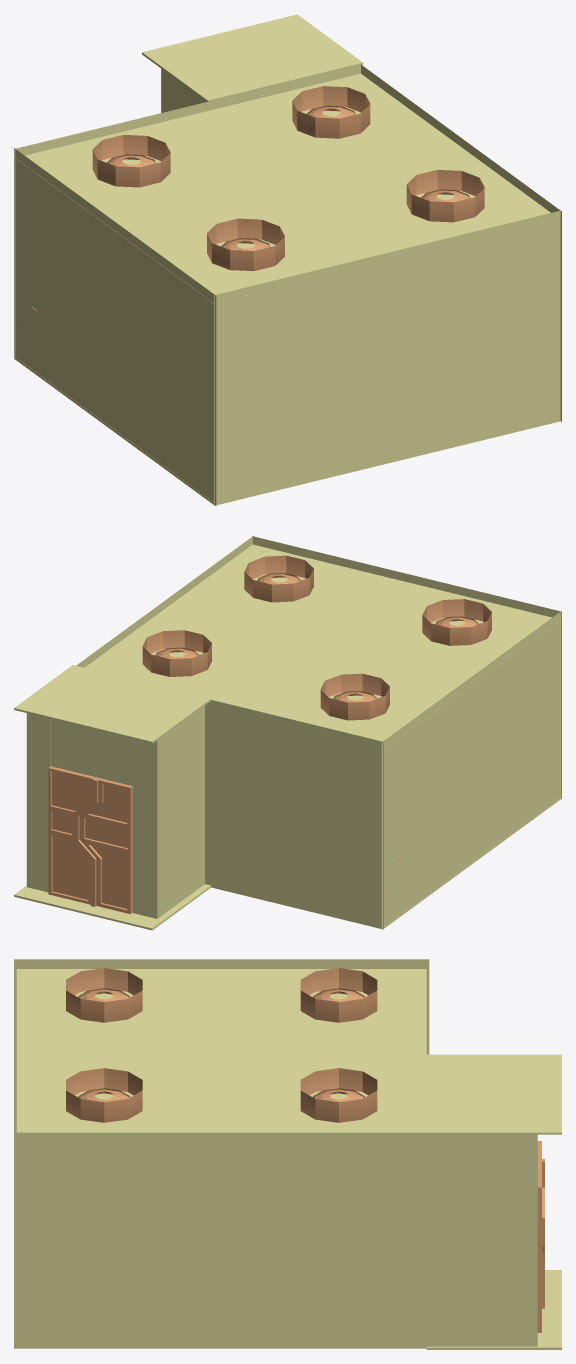
File: 2025.04.09_SLINC01_Base_luz.fbx
The picture shows the model from 3 angles, top to bottom: view 1: azimuth 30°, elevation 25°; view 2: azimuth 150°, elevation 25°; view 3: azimuth 270°, elevation 25°; orthographic projection. The views are drawn at different scales.
Visible parts, largest first — view 1: pPlane2, pCube88, pPlane3, pCube116, PARET, marco01, luz2, luz4, luz3, pPlane6, pPlane12, pCube54; view 2: pCube88, pPlane3, PARET, PARET1, pPlane12, pCube116, _Exp_Pantallas_Cables:SECURITY_DOOR_SR_RT_GROUP_01, _Exp_Pantallas_Cables:SECURITY_DOOR_SR_LF_GROUP_01, pPlane2, luz4, marco01, luz3 (+4 smaller); view 3: pPlane6, pCube88, pCube116, pPlane3, marco01, luz2, luz3, luz4, pCube41, _Exp_Pantallas_Cables:SECURITY_DOOR_SR_RT_GROUP_01, pCube54.
Boxes of the visible parts, x1,y1,x2,y2 form: pPlane2: (214,210,560,505); pCube88: (15,73,550,305); pPlane3: (14,148,216,505); pCube116: (142,14,363,101); PARET: (14,64,361,359); marco01: (92,135,170,187); luz2: (292,86,370,138); luz4: (406,170,484,222); luz3: (207,218,284,270); pPlane6: (361,64,561,421); pPlane12: (161,69,206,112); pCube54: (15,357,214,504); pCube88: (84,544,560,751); pPlane3: (381,611,561,929); PARET: (205,700,383,929); PARET1: (27,713,157,918); pPlane12: (157,705,204,918); pCube116: (14,665,211,743); _Exp_Pantallas_Cables:SECURITY_DOOR_SR_RT_GROUP_01: (48,766,99,906); _Exp_Pantallas_Cables:SECURITY_DOOR_SR_LF_GROUP_01: (79,778,132,914); pPlane2: (252,536,561,799); luz4: (244,555,313,602); marco01: (320,673,389,720); luz3: (422,599,491,645); pPlane6: (14,1132,537,1348); pCube88: (16,969,426,1144); pCube116: (426,1054,561,1134); pPlane3: (14,959,429,1132); marco01: (300,968,377,1022); luz2: (300,1068,377,1122); luz3: (66,968,142,1022); luz4: (66,1068,142,1122); pCube41: (426,1270,561,1349); _Exp_Pantallas_Cables:SECURITY_DOOR_SR_RT_GROUP_01: (537,1159,544,1332); pCube54: (16,1346,426,1348).
Size of the model in its own units: 32.06 by 19.46 by 42.49.
